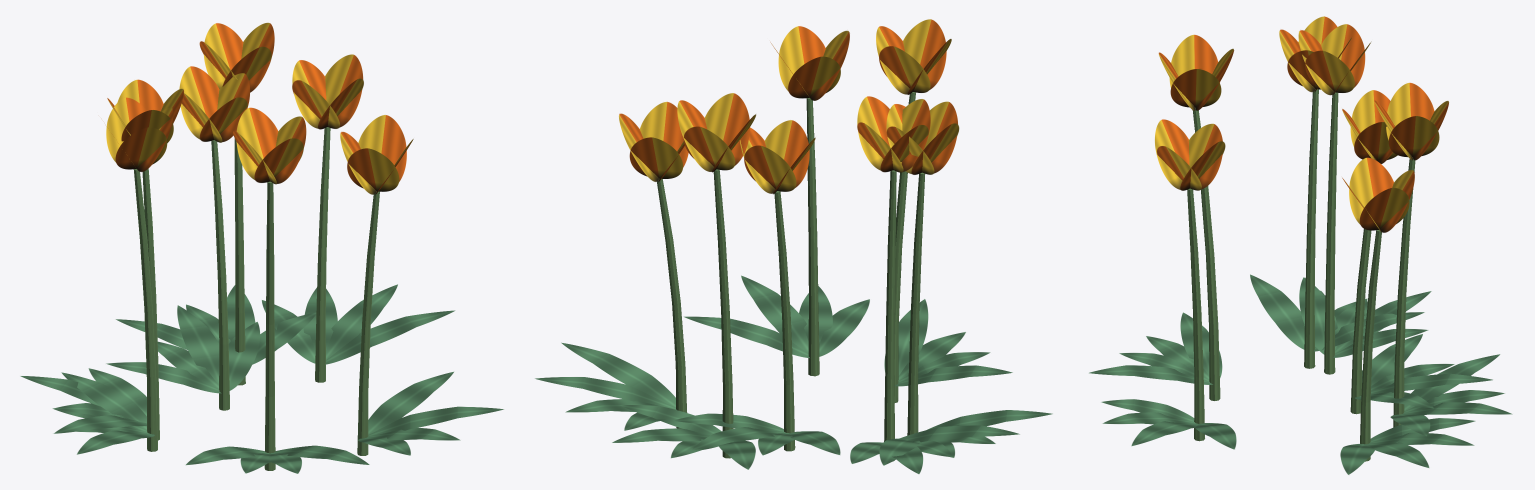
Rendered from arctic_poppy_v02.glb.
3 views of the same model, side by side, from view 1: azimuth 30°, elevation 25°; view 2: azimuth 150°, elevation 25°; view 3: azimuth 270°, elevation 25° (orthographic). The views are drawn at different scales.
Visible parts, largest first — view 1: arctic_poppy_v02; view 2: arctic_poppy_v02; view 3: arctic_poppy_v02.
Boxes of the visible parts, x1=… form: arctic_poppy_v02: x1=20, y1=22, x2=503, y2=473; arctic_poppy_v02: x1=535, y1=19, x2=1052, y2=473; arctic_poppy_v02: x1=1089, y1=16, x2=1512, y2=474.
Bounding box in the file's own units: 0.2869 × 0.2226 × 0.2566.
3 materials, 3 textured.
